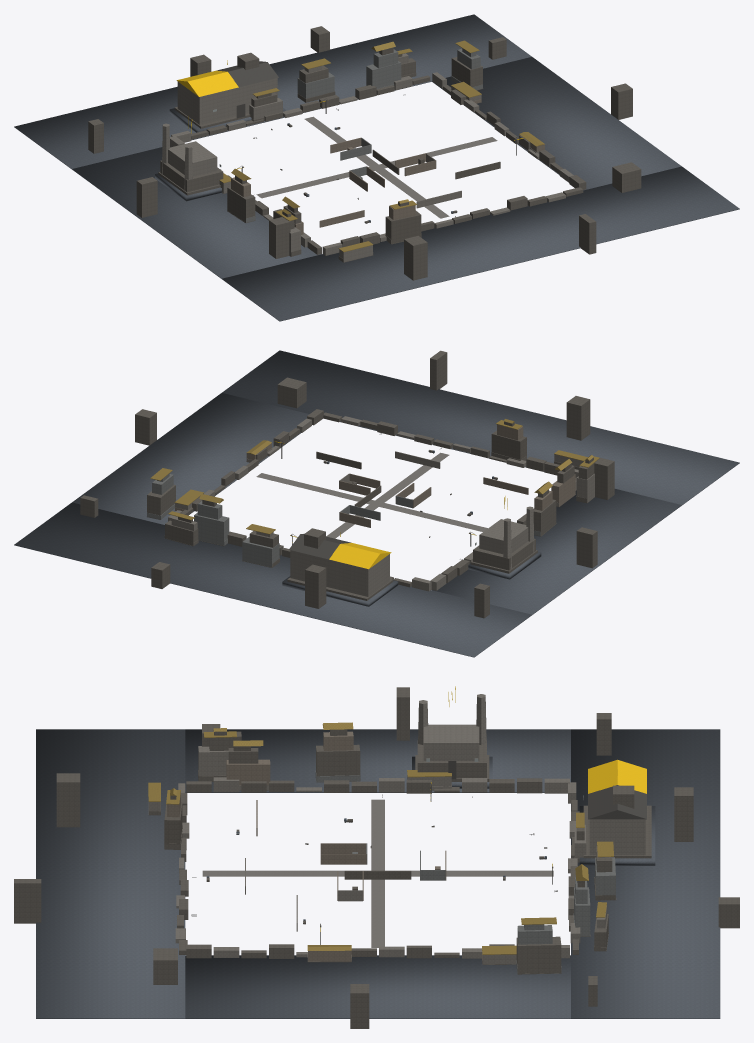
File: kuko-lod2.glb
The picture shows the model from 3 angles, top to bottom: view 1: azimuth 30°, elevation 25°; view 2: azimuth 150°, elevation 25°; view 3: azimuth 270°, elevation 25°; orthographic projection. The views are drawn at different scales.
Parts seen in each view (by area): view 1: HB_kuko_LOD2_terrain, HB_kuko_LOD2_wall_alt, HB_kuko_LOD2_wall, HB_kuko_LOD2_wall_cool, HB_kuko_LOD2_wall_warm, HB_kuko_LOD2_LANDMARK_0_wall, HB_kuko_LOD2_road, HB_kuko_LOD2_wall_weathered, HB_kuko_LOD2_roof, HB_kuko_LOD2_LANDMARK_1_wall, HB_kuko_LOD2_LANDMARK_1_wall_alt, HB_kuko_LOD2_LANDMARK_0_accent (+2 smaller); view 2: HB_kuko_LOD2_terrain, HB_kuko_LOD2_wall_alt, HB_kuko_LOD2_wall_cool, HB_kuko_LOD2_wall, HB_kuko_LOD2_wall_warm, HB_kuko_LOD2_LANDMARK_0_wall, HB_kuko_LOD2_road, HB_kuko_LOD2_roof, HB_kuko_LOD2_LANDMARK_1_wall, HB_kuko_LOD2_wall_weathered, HB_kuko_LOD2_LANDMARK_1_wall_alt, HB_kuko_LOD2_LANDMARK_0_accent (+3 smaller); view 3: HB_kuko_LOD2_terrain, HB_kuko_LOD2_wall_alt, HB_kuko_LOD2_wall, HB_kuko_LOD2_road, HB_kuko_LOD2_wall_warm, HB_kuko_LOD2_roof, HB_kuko_LOD2_LANDMARK_1_wall, HB_kuko_LOD2_wall_cool, HB_kuko_LOD2_LANDMARK_0_wall, HB_kuko_LOD2_wall_weathered, HB_kuko_LOD2_LANDMARK_0_accent, HB_kuko_LOD2_LANDMARK_0_trim (+3 smaller).
Part boxes in pixels (left/top/right/bottom): HB_kuko_LOD2_terrain: left=14, top=14, right=739, bottom=321; HB_kuko_LOD2_wall_alt: left=88, top=26, right=641, bottom=280; HB_kuko_LOD2_wall: left=170, top=53, right=573, bottom=261; HB_kuko_LOD2_wall_cool: left=246, top=48, right=482, bottom=222; HB_kuko_LOD2_wall_warm: left=231, top=99, right=544, bottom=234; HB_kuko_LOD2_LANDMARK_0_wall: left=177, top=78, right=277, bottom=124; HB_kuko_LOD2_road: left=256, top=116, right=497, bottom=218; HB_kuko_LOD2_wall_weathered: left=256, top=47, right=500, bottom=243; HB_kuko_LOD2_roof: left=219, top=40, right=544, bottom=252; HB_kuko_LOD2_LANDMARK_1_wall: left=162, top=123, right=217, bottom=190; HB_kuko_LOD2_LANDMARK_1_wall_alt: left=158, top=160, right=223, bottom=195; HB_kuko_LOD2_LANDMARK_0_accent: left=176, top=60, right=238, bottom=96; HB_kuko_LOD2_terrain: left=14, top=350, right=739, bottom=657; HB_kuko_LOD2_wall_alt: left=80, top=350, right=614, bottom=618; HB_kuko_LOD2_wall_cool: left=147, top=473, right=540, bottom=567; HB_kuko_LOD2_wall: left=168, top=416, right=594, bottom=591; HB_kuko_LOD2_wall_warm: left=175, top=424, right=575, bottom=527; HB_kuko_LOD2_LANDMARK_0_wall: left=290, top=550, right=389, bottom=596; HB_kuko_LOD2_road: left=256, top=452, right=487, bottom=538; HB_kuko_LOD2_roof: left=150, top=419, right=599, bottom=534; HB_kuko_LOD2_LANDMARK_1_wall: left=479, top=506, right=534, bottom=569; HB_kuko_LOD2_wall_weathered: left=178, top=430, right=571, bottom=567; HB_kuko_LOD2_LANDMARK_1_wall_alt: left=471, top=538, right=537, bottom=573; HB_kuko_LOD2_LANDMARK_0_accent: left=329, top=532, right=391, bottom=569; HB_kuko_LOD2_terrain: left=36, top=729, right=720, bottom=1018; HB_kuko_LOD2_wall_alt: left=14, top=687, right=739, bottom=1028; HB_kuko_LOD2_wall: left=149, top=746, right=608, bottom=964; HB_kuko_LOD2_road: left=202, top=799, right=553, bottom=947; HB_kuko_LOD2_wall_warm: left=167, top=731, right=482, bottom=963; HB_kuko_LOD2_roof: left=148, top=722, right=613, bottom=954; HB_kuko_LOD2_LANDMARK_1_wall: left=418, top=694, right=486, bottom=760; HB_kuko_LOD2_wall_cool: left=315, top=770, right=615, bottom=973; HB_kuko_LOD2_LANDMARK_0_wall: left=589, top=819, right=645, bottom=855; HB_kuko_LOD2_wall_weathered: left=164, top=746, right=615, bottom=931; HB_kuko_LOD2_LANDMARK_0_accent: left=588, top=759, right=646, bottom=793; HB_kuko_LOD2_LANDMARK_0_trim: left=588, top=785, right=646, bottom=819.
Bounding box in the file's own units: 616 × 85.87 × 632.
Materials: 12 (11 with a texture image).
